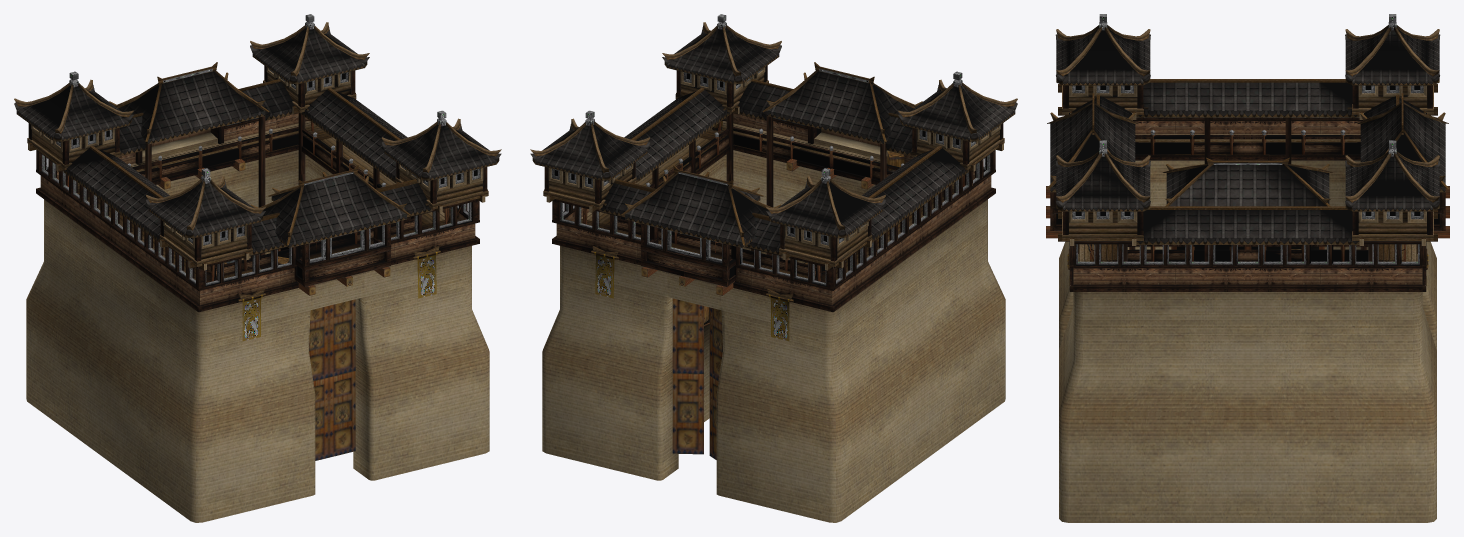
The model's file is han_fortress.glb.
The picture shows the model from 3 angles, left to right: view 1: azimuth 30°, elevation 25°; view 2: azimuth 150°, elevation 25°; view 3: azimuth 270°, elevation 25°; orthographic projection. The views are drawn at different scales.
Visible parts, largest first — view 1: han_fortress_part0; view 2: han_fortress_part0; view 3: han_fortress_part0.
Part boxes in pixels (x1,y1,x2,y2): han_fortress_part0: (14, 14, 501, 522); han_fortress_part0: (530, 14, 1017, 522); han_fortress_part0: (1046, 14, 1449, 522).
Bounding box in the file's own units: 5.93 × 5.98 × 6.
Materials: 1 (1 with a texture image).
